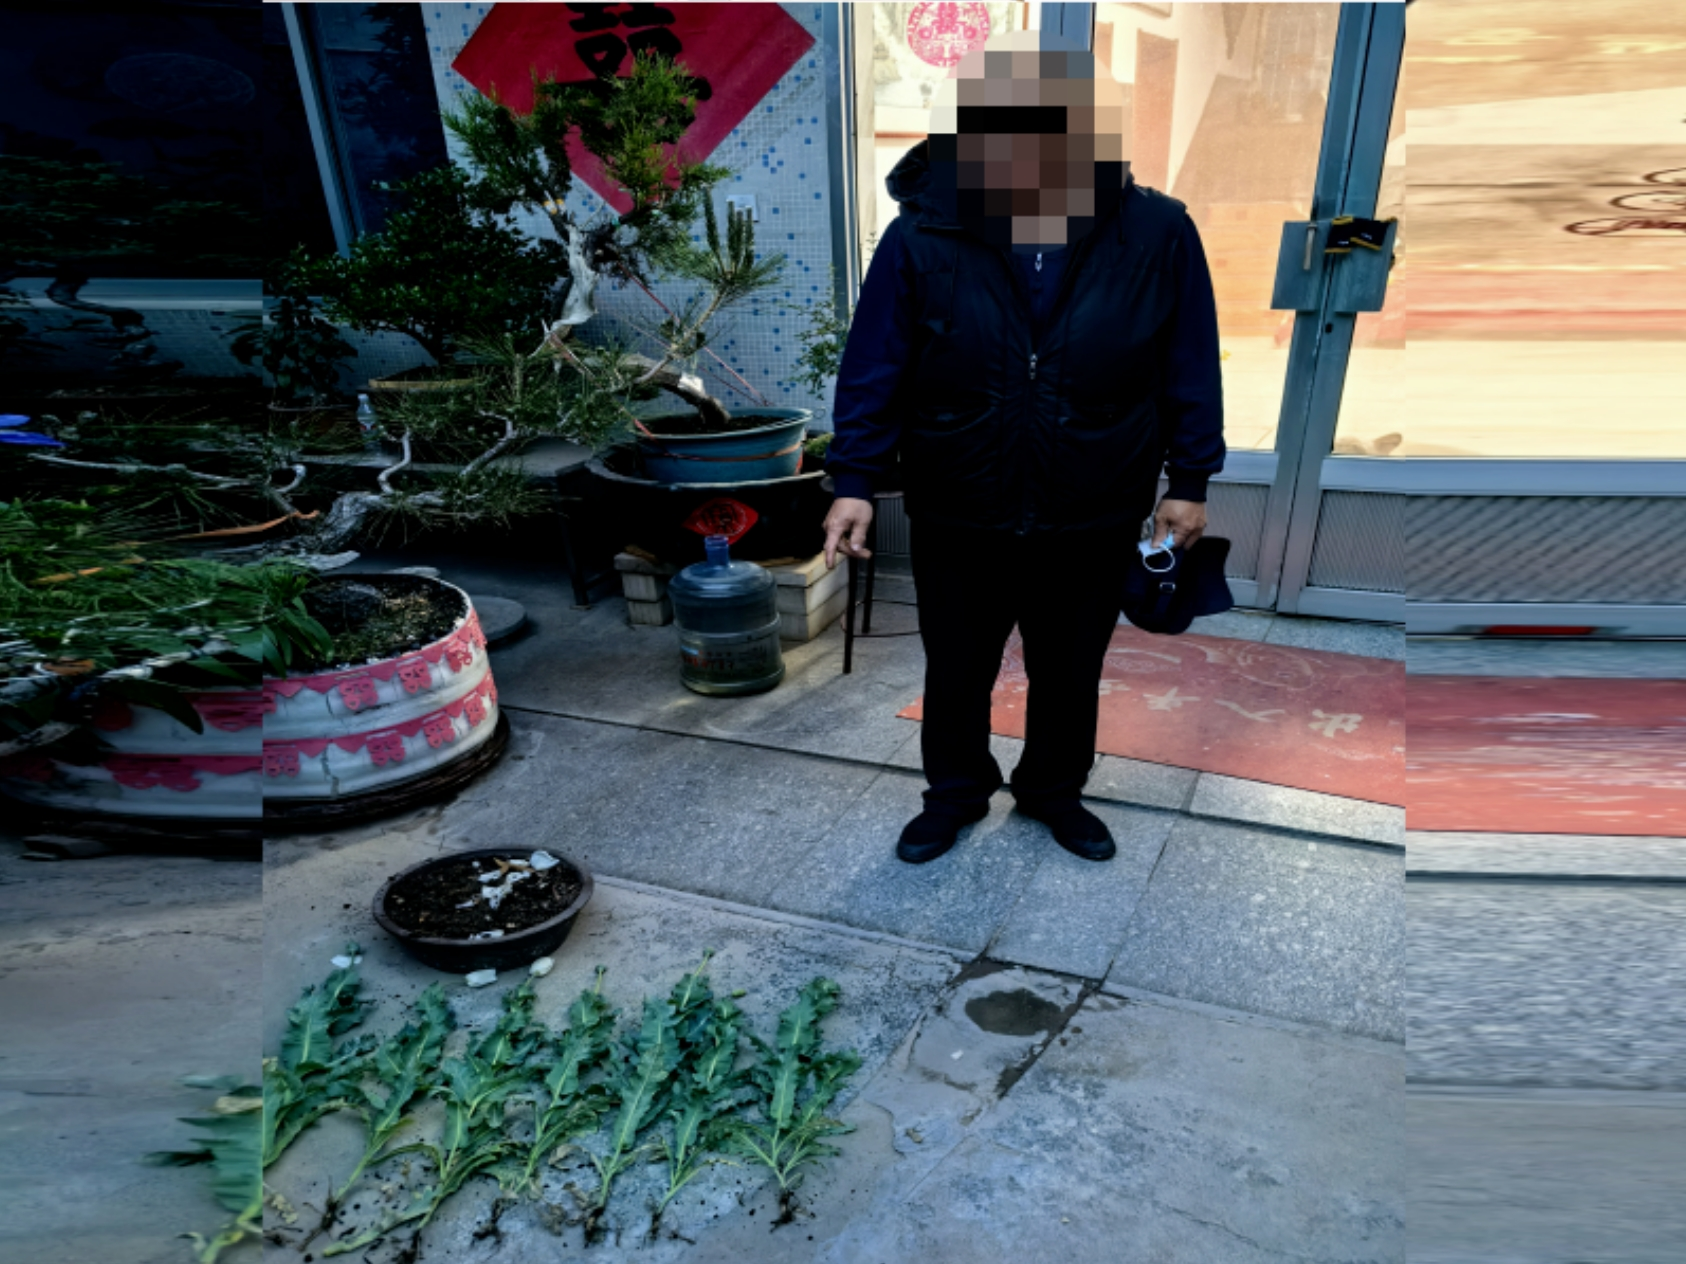Poppy: (175, 899, 859, 1237)
